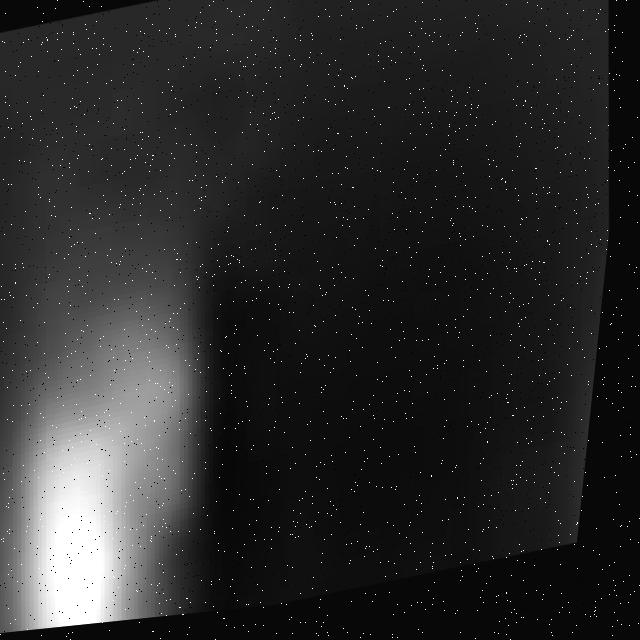person: (1, 241, 254, 639)
